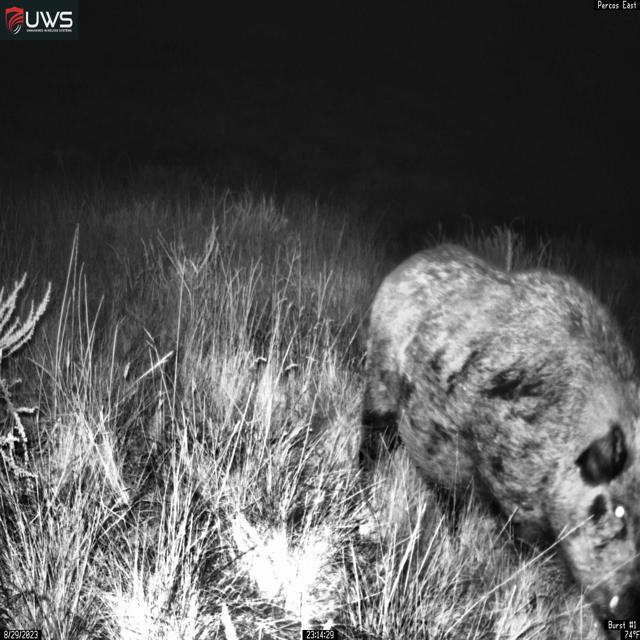pig: (357, 242, 640, 638)
